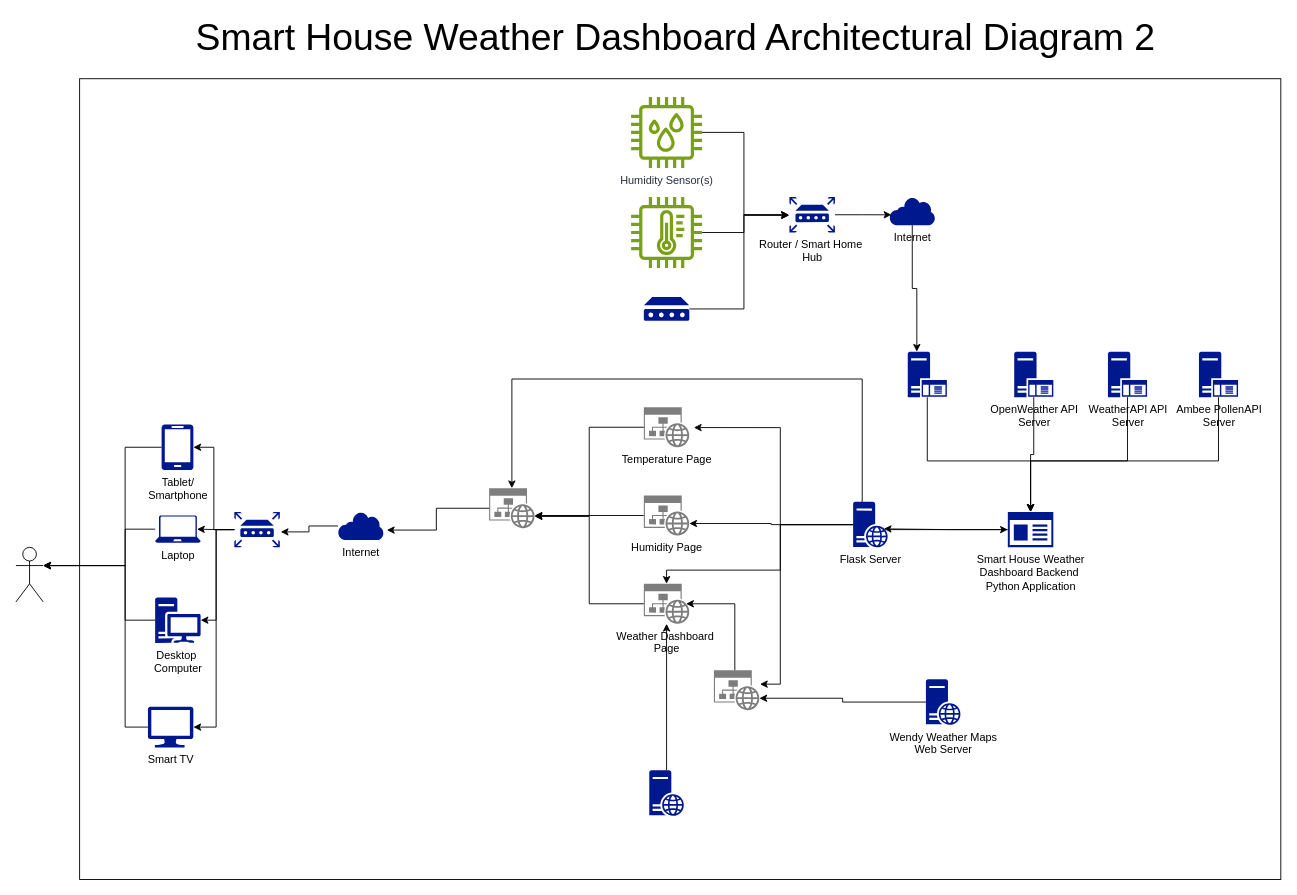
Image size: 1297x895. Some labels were removed from this diagram. Each missing label, with the centre of its shape:
"Router" goes at (x=256, y=529).
"Smart House Weather Dashboard Landing Page" goes at (x=511, y=508).
"Temperature Sensor(s)" goes at (x=666, y=232).
"Time and Date Server" goes at (x=666, y=792).
"User" goes at (x=29, y=574).
"Weather Maps" goes at (x=736, y=690).
"Weather Station" goes at (x=666, y=308).
"WeatherLink API Server" goes at (x=926, y=374).
